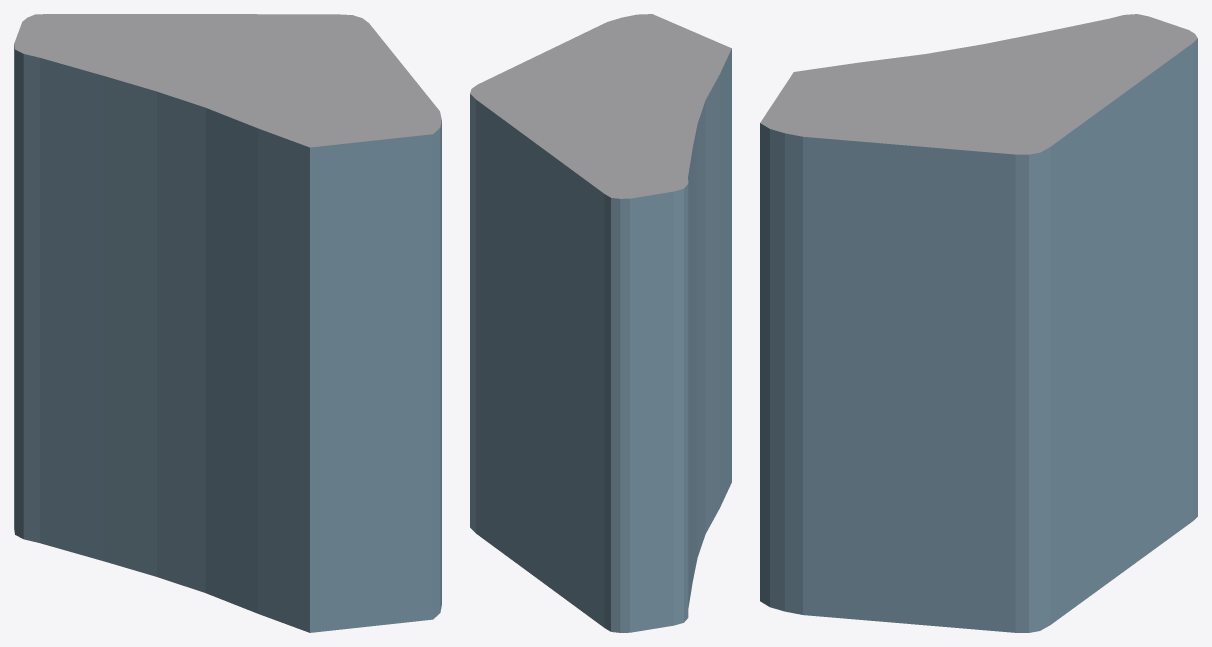
File: building_5_4.glb
3 renders of one model, left to right at view 1: azimuth 30°, elevation 25°; view 2: azimuth 150°, elevation 25°; view 3: azimuth 270°, elevation 25°, orthographic. The views are drawn at different scales.
Parts seen in each view (by area): view 1: glass_blue, roof; view 2: glass_blue, roof; view 3: glass_blue, roof.
Boxes of the visible parts, left/top/right/bottom form: glass_blue: left=14, top=44, right=441, bottom=632; roof: left=14, top=14, right=441, bottom=147; glass_blue: left=470, top=48, right=731, bottom=632; roof: left=470, top=14, right=731, bottom=198; glass_blue: left=760, top=38, right=1197, bottom=632; roof: left=760, top=14, right=1197, bottom=154.
Bounding box in the file's own units: 84.77 × 134 × 111.
